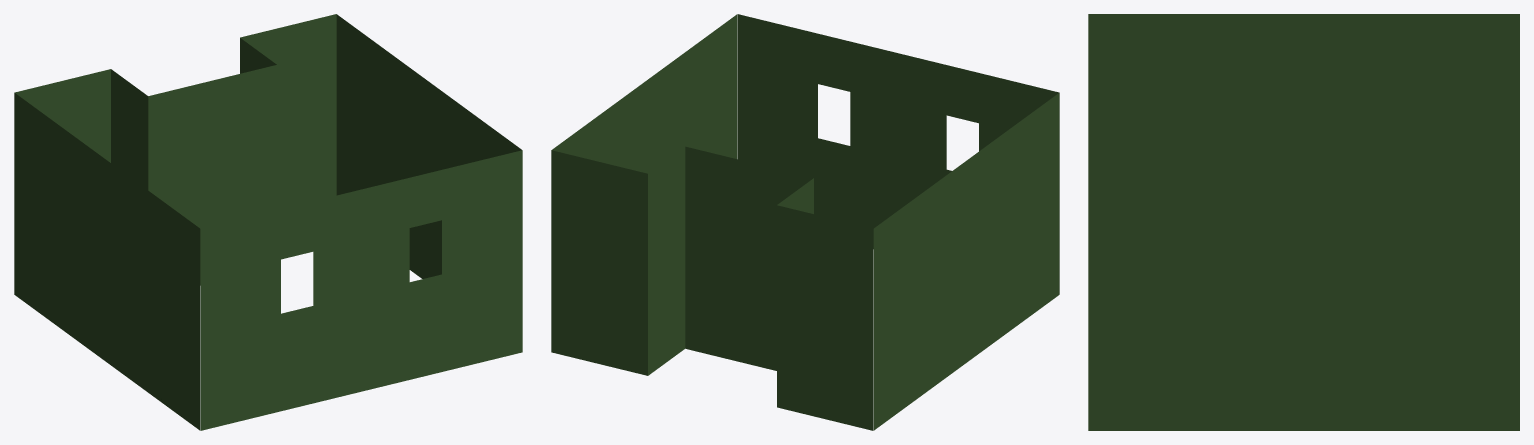
The model's file is hub_walls.fbx.
3 views of the same model, side by side, from view 1: azimuth 30°, elevation 25°; view 2: azimuth 150°, elevation 25°; view 3: azimuth 270°, elevation 25° (orthographic). The views are drawn at different scales.
Visible parts, largest first — view 1: Hub Walls; view 2: Hub Walls; view 3: Hub Walls.
Part boxes in pixels (x1,y1,x2,y2): Hub Walls: (14,14,522,430); Hub Walls: (551,14,1059,430); Hub Walls: (1088,14,1519,430).
Size of the model in its own units: 500 by 300 by 500.
